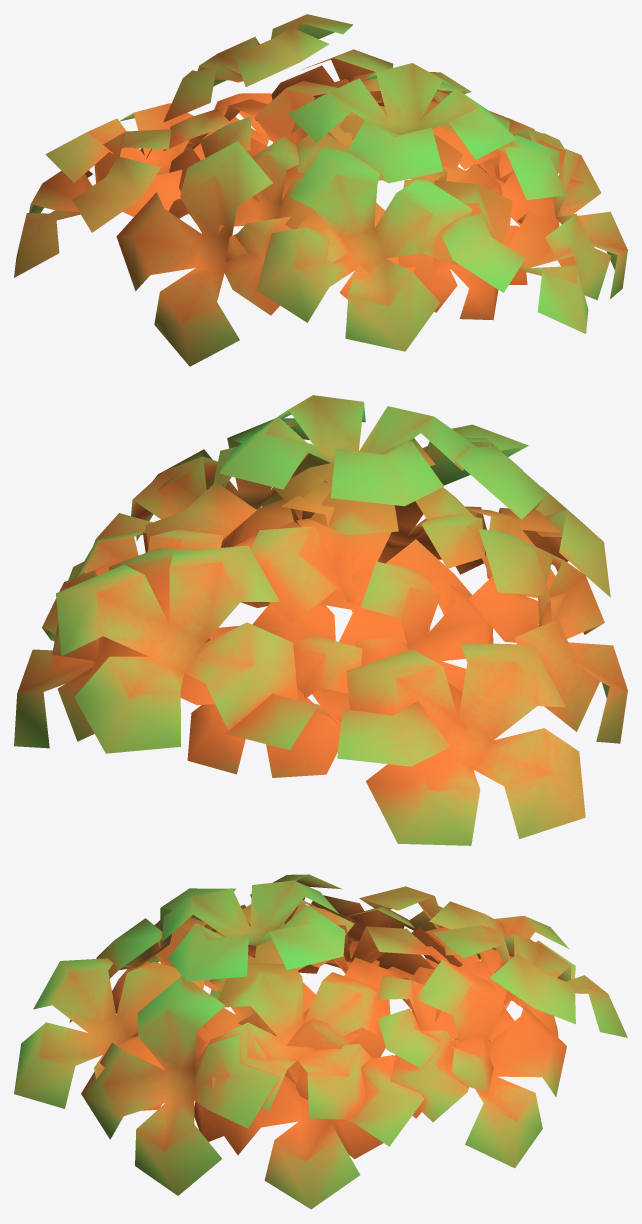
File: Plant3.glb
3 views of the same model, one above another, from view 1: azimuth 30°, elevation 25°; view 2: azimuth 150°, elevation 25°; view 3: azimuth 270°, elevation 25° (orthographic). The views are drawn at different scales.
Parts seen in each view (by area): view 1: Plant3; view 2: Plant3; view 3: Plant3.
Part boxes in pixels (x1,y1,x2,y2): Plant3: (14,14,627,366); Plant3: (14,395,627,845); Plant3: (14,874,627,1209).
Bounding box in the file's own units: 1.33 × 0.5552 × 1.47.
1 material, 1 textured.
